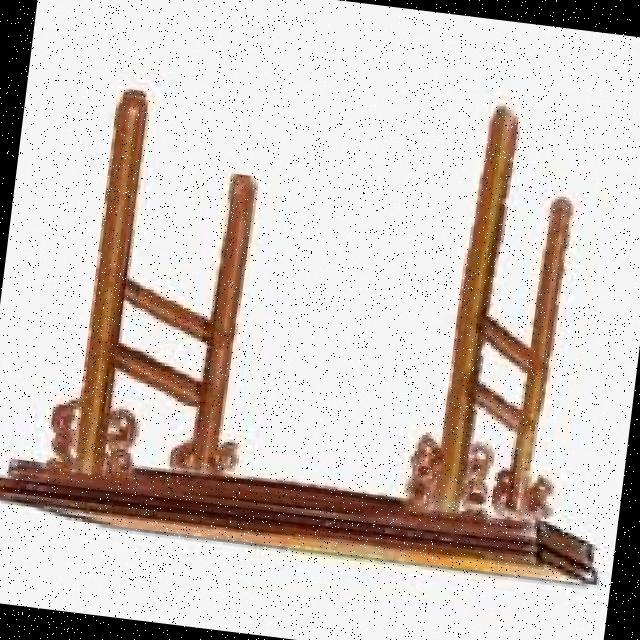Table: (0, 47, 640, 613)
